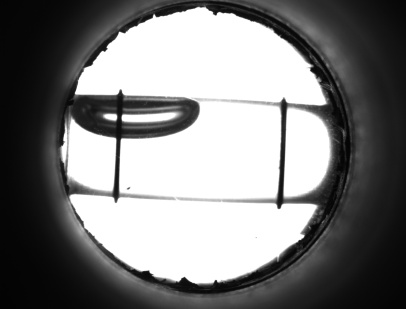line: (273, 121, 292, 188), (111, 144, 124, 183)
